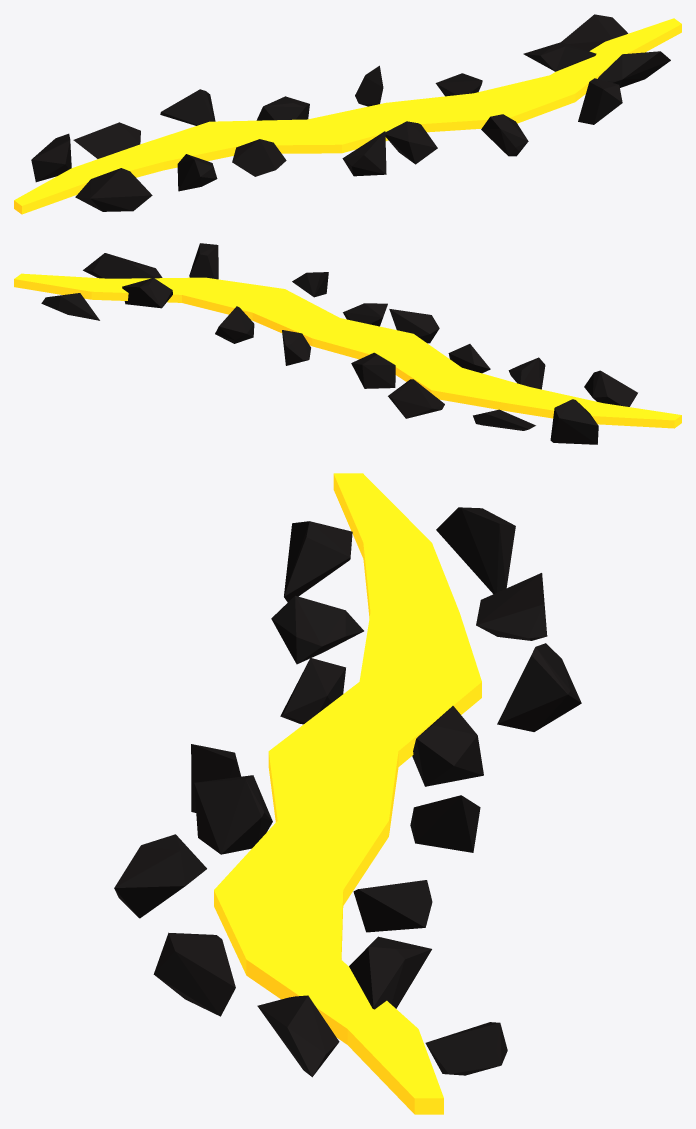
Rendered from grieta_lava.fbx.
3 renders of one model, top to bottom at view 1: azimuth 30°, elevation 25°; view 2: azimuth 150°, elevation 25°; view 3: azimuth 270°, elevation 25°, orthographic. The views are drawn at different scales.
Parts seen in each view (by area): view 1: grieta_lava; view 2: grieta_lava; view 3: grieta_lava.
Part boxes in pixels (x1,y1,x2,y2): grieta_lava: [14, 14, 681, 214]; grieta_lava: [14, 243, 681, 444]; grieta_lava: [114, 473, 581, 1114].
Size of the model in its own units: 10 by 0.5951 by 3.16.
